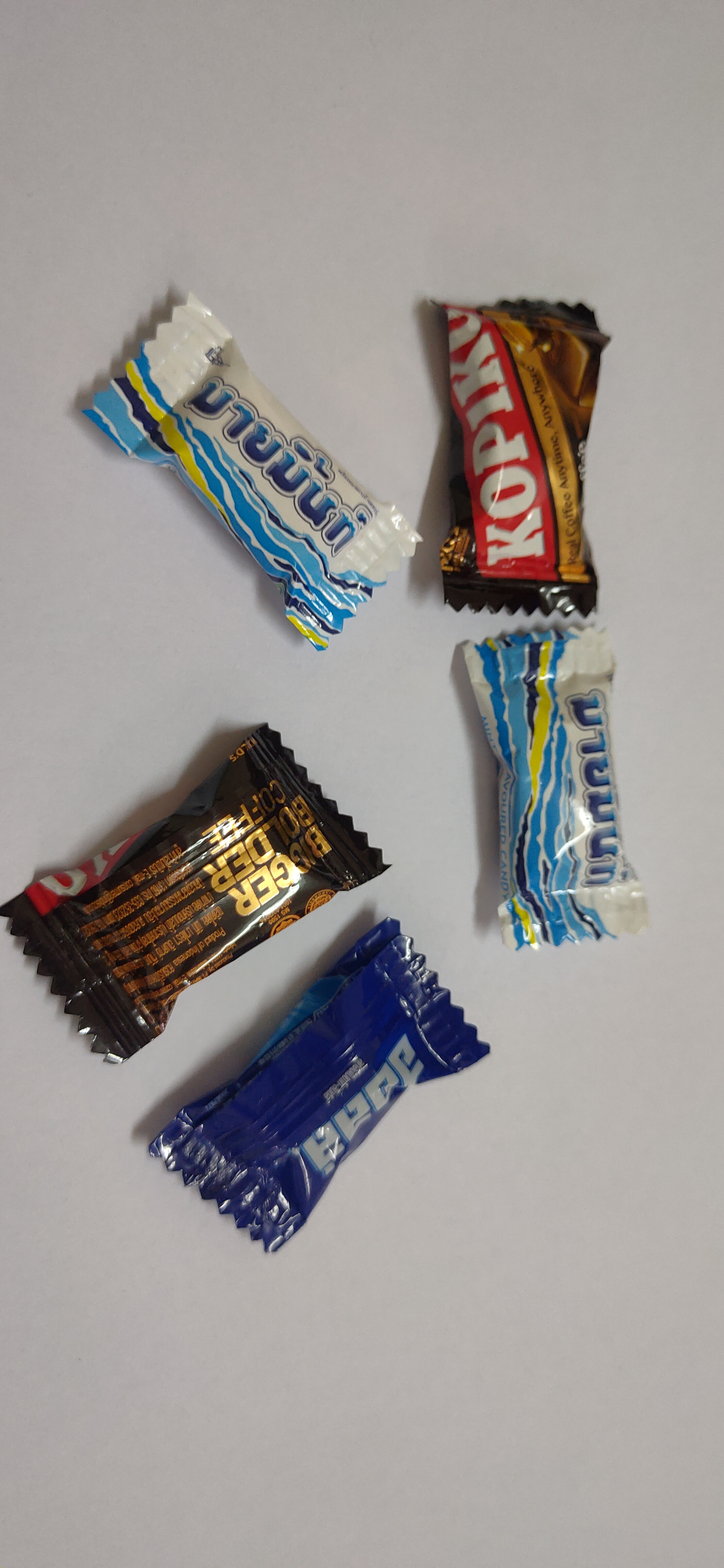plastic: (42, 233, 452, 710), (0, 688, 444, 1107), (113, 923, 512, 1303), (387, 250, 659, 633), (428, 595, 678, 973)
